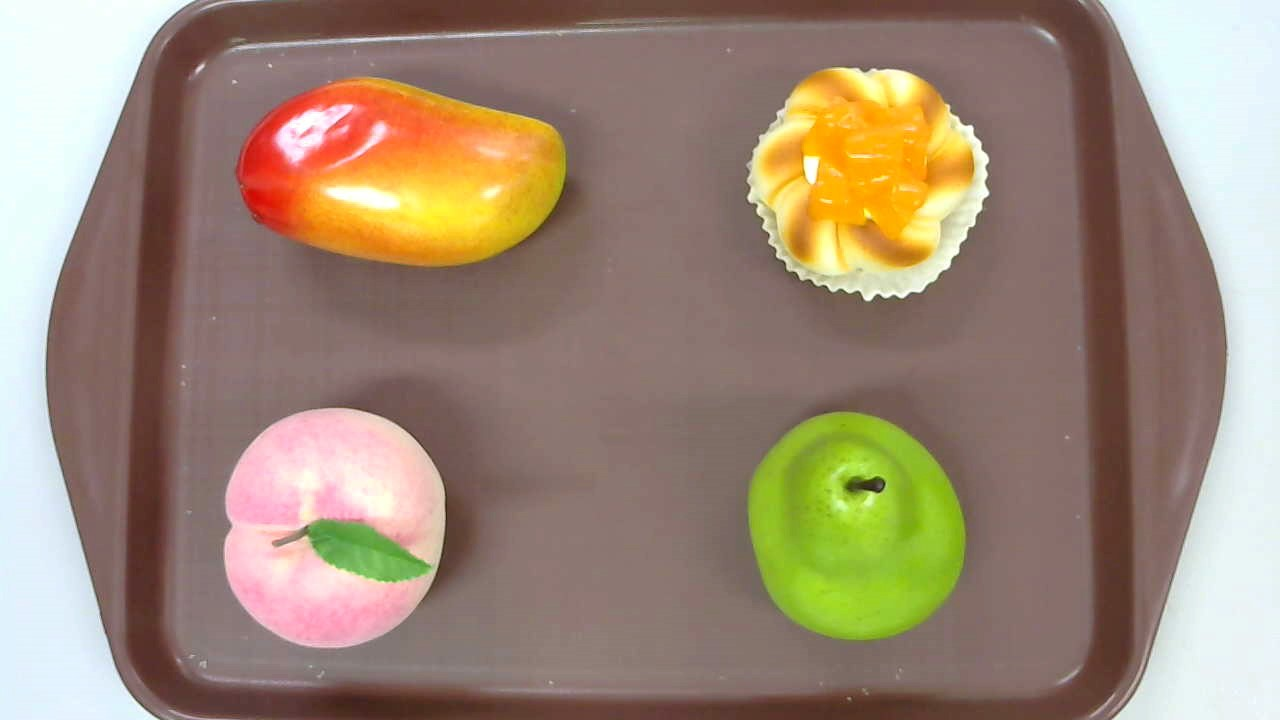green pear: (747, 411, 966, 640)
mango tart: (746, 66, 991, 305)
peach: (225, 405, 447, 650)
red mango: (235, 77, 566, 267)
